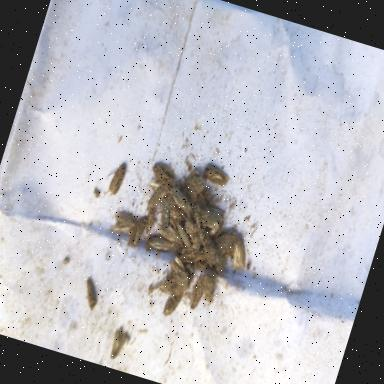pbw: (226, 232, 258, 274), (101, 158, 128, 202), (103, 322, 132, 362), (195, 236, 226, 270), (164, 186, 200, 214), (152, 217, 186, 246), (126, 210, 150, 248), (78, 275, 104, 310), (176, 240, 208, 268), (181, 202, 208, 235), (170, 219, 198, 250), (188, 274, 210, 310), (199, 203, 228, 229), (153, 196, 176, 228), (110, 208, 138, 234), (148, 179, 174, 207), (198, 164, 228, 188), (163, 289, 184, 321), (148, 161, 176, 183), (166, 266, 192, 288), (146, 232, 174, 252), (168, 251, 190, 273), (142, 208, 158, 230)
